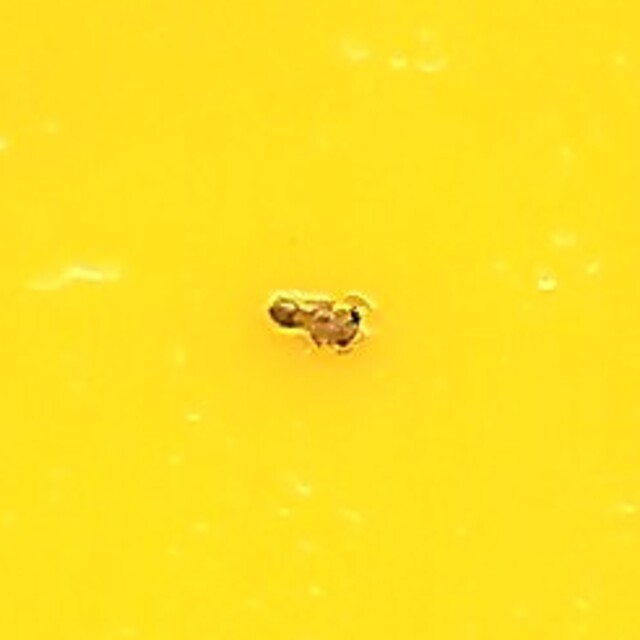Nematocera: (260, 274, 380, 366)
